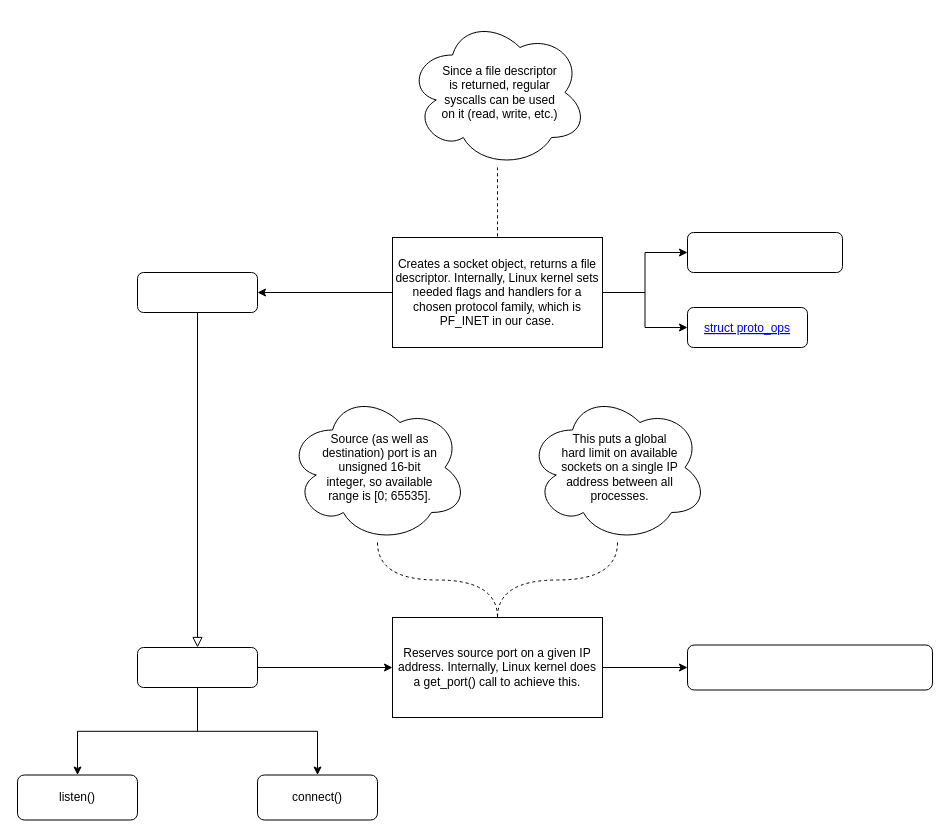
Some shapes in this 950 by 838 pixel diagram are drawn without their labels. The shapes that lost their labels are listed below. From the top down, each one's centre as x and y in pixels, then its label:
At (764,252): "(PF)AF_INET handlers".
At (197,292): "socket()".
At (197,667): "bind()".
At (809,667): "get_port() implementation for AF_INET".
